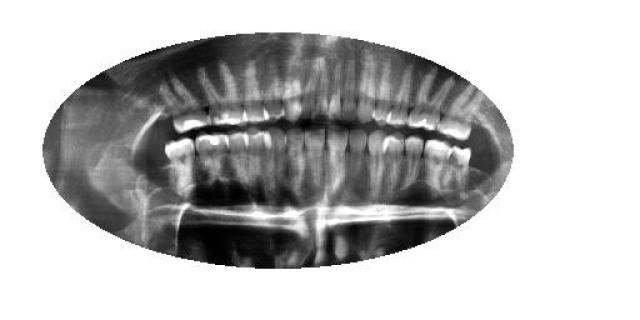Fillings: (405, 68, 453, 132), (195, 132, 229, 186)
